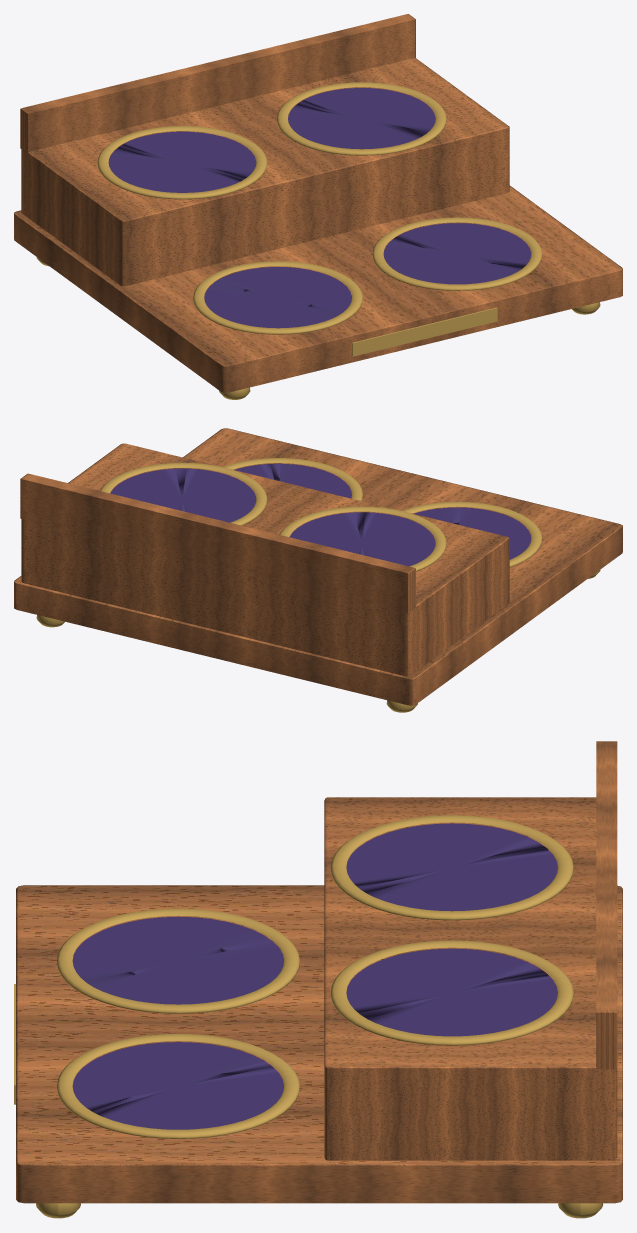
Rendered from keepshelf.glb.
The picture shows the model from 3 angles, top to bottom: view 1: azimuth 30°, elevation 25°; view 2: azimuth 150°, elevation 25°; view 3: azimuth 270°, elevation 25°; orthographic projection. The views are drawn at different scales.
Parts seen in each view (by area): view 1: ks_step, ks_base, ks_pads, ks_rail, ks_rings, ks_plate; view 2: ks_step, ks_base, ks_rail, ks_pads, ks_rings, ks_feet; view 3: ks_base, ks_step, ks_pads, ks_rings, ks_rail, ks_feet.
Part boxes in pixels (x1,y1,x2,y2): ks_step: [21, 58, 509, 286]; ks_base: [14, 185, 622, 392]; ks_pads: [108, 88, 531, 328]; ks_rail: [20, 14, 415, 152]; ks_rings: [97, 82, 542, 334]; ks_plate: [352, 307, 497, 356]; ks_step: [21, 443, 509, 676]; ks_base: [14, 428, 622, 705]; ks_rail: [20, 473, 415, 613]; ks_pads: [110, 463, 531, 566]; ks_rings: [100, 458, 542, 571]; ks_feet: [36, 570, 600, 712]; ks_base: [16, 885, 622, 1203]; ks_step: [324, 797, 617, 1160]; ks_pads: [72, 823, 557, 1129]; ks_rings: [57, 815, 573, 1138]; ks_rail: [596, 741, 617, 1069]; ks_feet: [36, 1203, 603, 1218].
Size of the model in its own units: 0.94 by 0.332 by 0.863.
3 materials, 1 textured.
